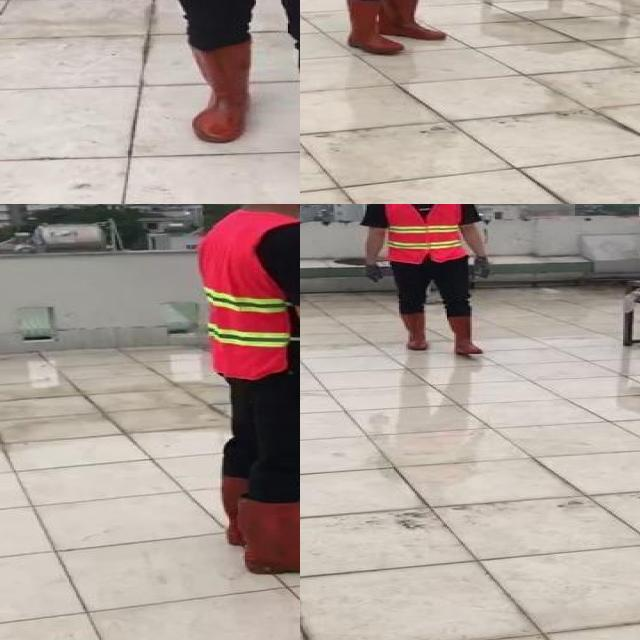boots: (187, 41, 256, 144), (207, 470, 300, 546), (236, 494, 300, 575), (345, 0, 400, 54), (377, 0, 448, 40), (445, 315, 481, 356), (396, 312, 430, 351)
hand_glove: (472, 255, 491, 278), (365, 263, 383, 283)
head_helmet: (86, 0, 300, 188)
person: (181, 204, 300, 592), (358, 204, 502, 357)
vest: (199, 209, 300, 378), (379, 204, 468, 264)
